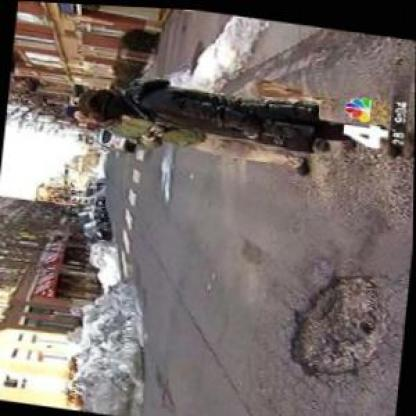pothole: (280, 259, 390, 383)
